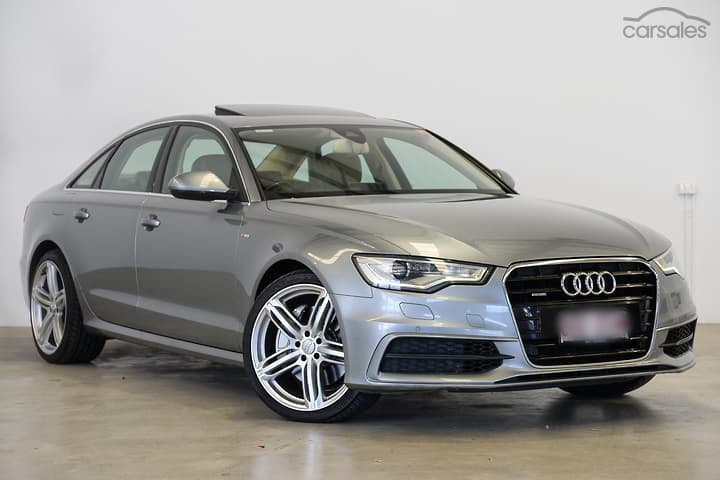car: (17, 98, 701, 420)
